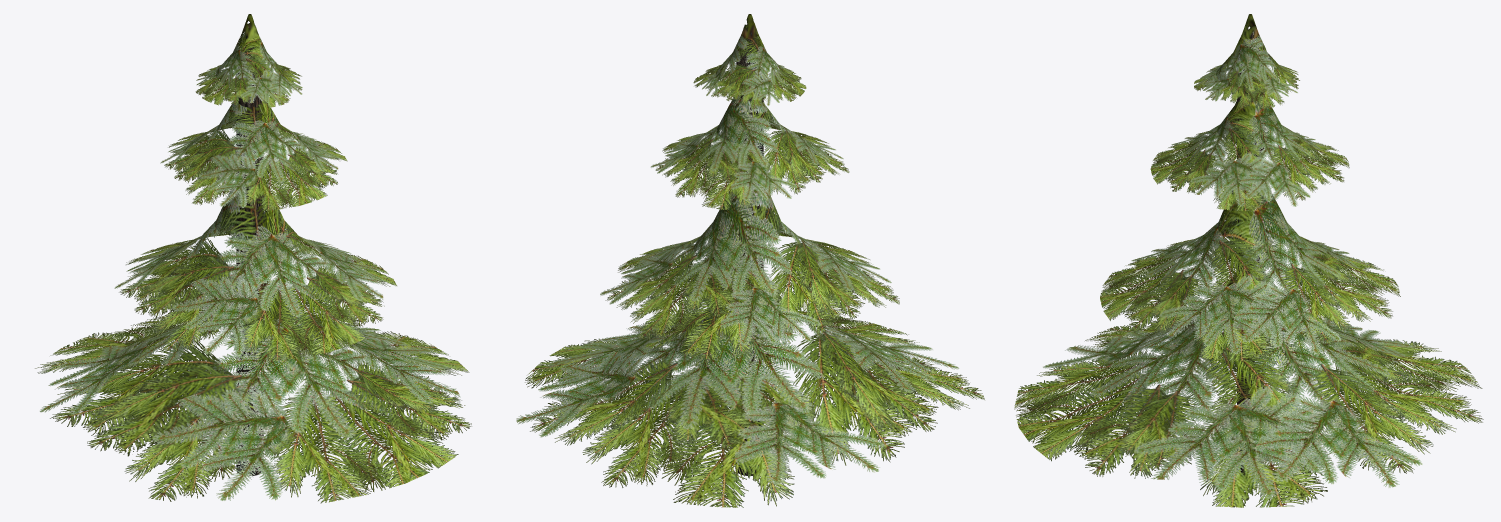
File: tree.obj
3 renders of one model, left to right at view 1: azimuth 30°, elevation 25°; view 2: azimuth 150°, elevation 25°; view 3: azimuth 270°, elevation 25°, orthographic.
Parts seen in each view (by area): view 1: Circle.004_Circle.005, Circle.003_Circle.004, Circle.002_Circle.003, Circle.001_Circle.002, Circle; view 2: Circle.004_Circle.005, Circle.003_Circle.004, Circle.002_Circle.003, Circle.001_Circle.002, Circle; view 3: Circle.004_Circle.005, Circle.003_Circle.004, Circle.002_Circle.003, Circle.001_Circle.002.
Boxes of the visible parts, left/top/right/bottom form: Circle.004_Circle.005: left=35, top=276, right=471, bottom=503; Circle.003_Circle.004: left=114, top=178, right=396, bottom=361; Circle.002_Circle.003: left=160, top=101, right=347, bottom=210; Circle.001_Circle.002: left=195, top=14, right=302, bottom=107; Circle: left=236, top=35, right=263, bottom=475; Circle.004_Circle.005: left=516, top=275, right=984, bottom=507; Circle.003_Circle.004: left=600, top=181, right=899, bottom=360; Circle.002_Circle.003: left=650, top=97, right=849, bottom=210; Circle.001_Circle.002: left=693, top=14, right=806, bottom=109; Circle: left=736, top=32, right=763, bottom=475; Circle.004_Circle.005: left=1014, top=271, right=1483, bottom=507; Circle.003_Circle.004: left=1100, top=185, right=1400, bottom=361; Circle.002_Circle.003: left=1150, top=95, right=1349, bottom=211; Circle.001_Circle.002: left=1194, top=14, right=1299, bottom=108.
Bounding box in the file's own units: 34.69 × 36.88 × 34.69.
2 materials, 2 textured.
